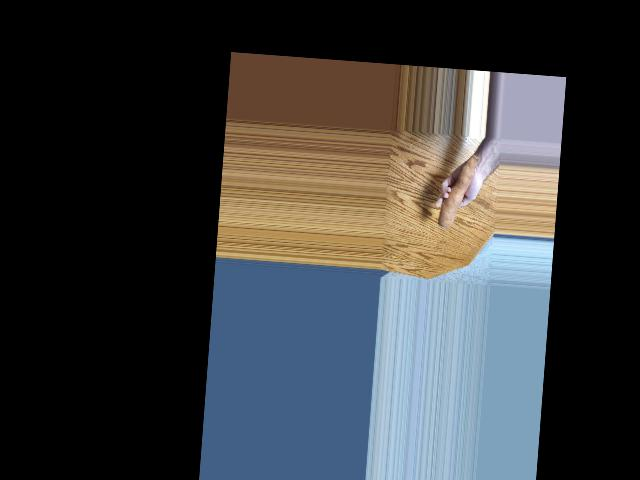sweet_potato: (443, 152, 480, 227)
